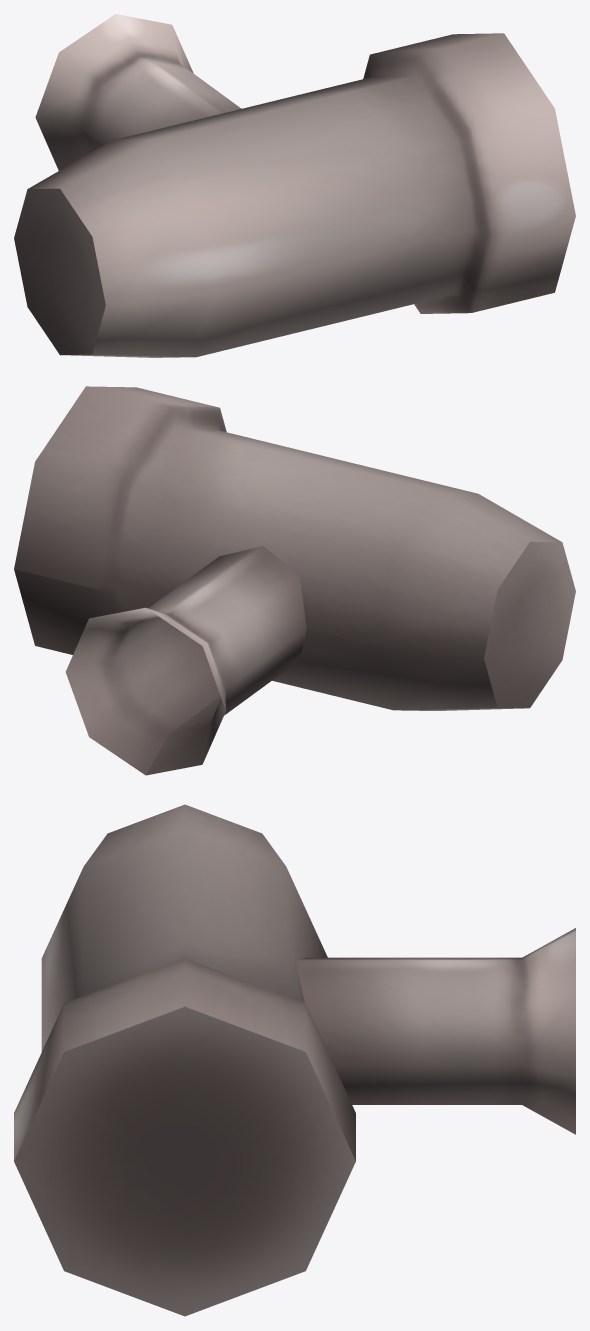
Rendered from step_bar_frame1.FBX.
3 renders of one model, top to bottom at view 1: azimuth 30°, elevation 25°; view 2: azimuth 150°, elevation 25°; view 3: azimuth 270°, elevation 25°, orthographic. The views are drawn at different scales.
Visible parts, largest first — view 1: Cylinder042; view 2: Cylinder042; view 3: Cylinder042.
Boxes of the visible parts, box(x1,y1,x2,y2) form: Cylinder042: box(14, 14, 575, 357); Cylinder042: box(14, 386, 575, 775); Cylinder042: box(14, 804, 575, 1316).
Bounding box in the file's own units: 2.52 × 1.41 × 2.32.
